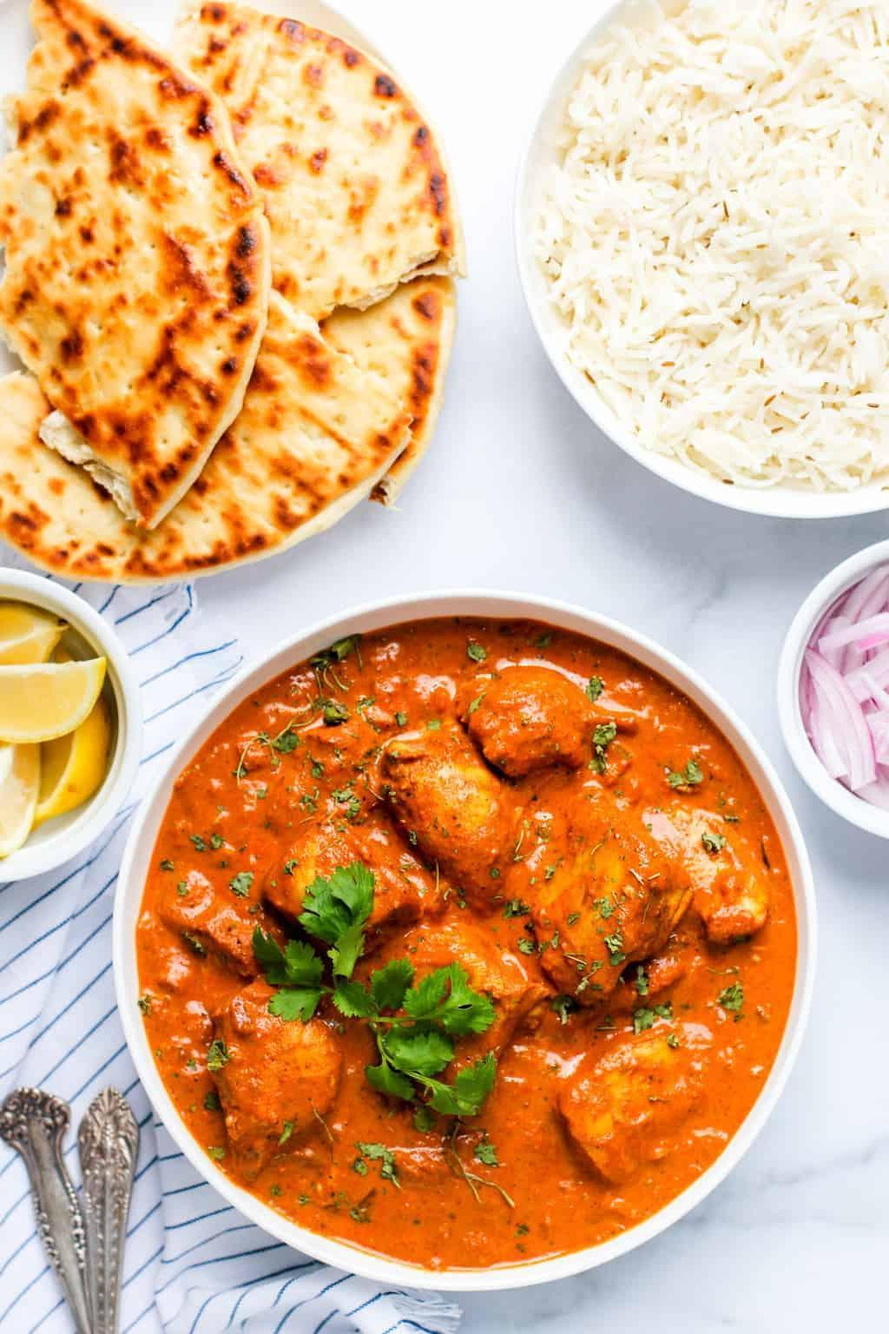chicken: (148, 680, 842, 1228)
rice: (569, 7, 889, 563)
roti: (9, 11, 434, 576)
